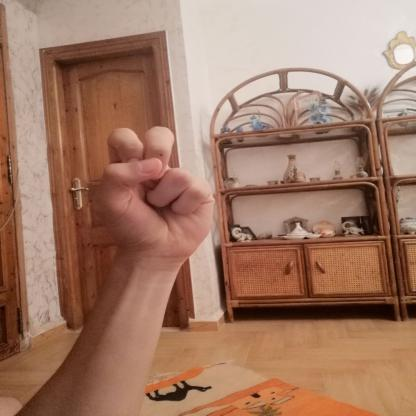QAAF: (74, 117, 229, 273)
